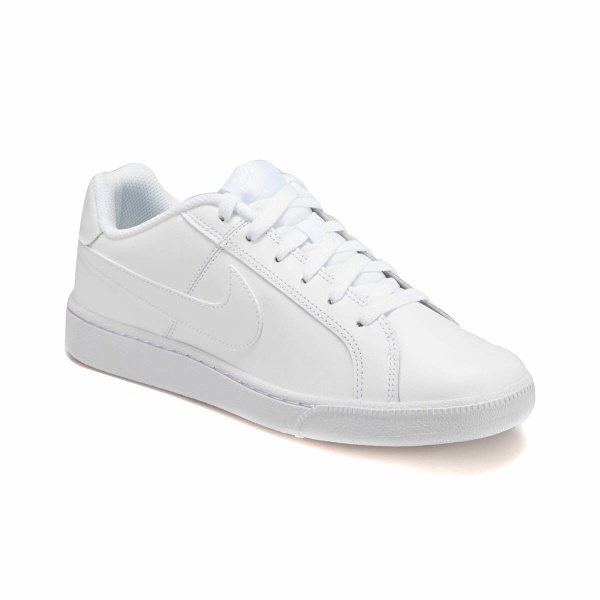nike: (95, 242, 268, 361)
